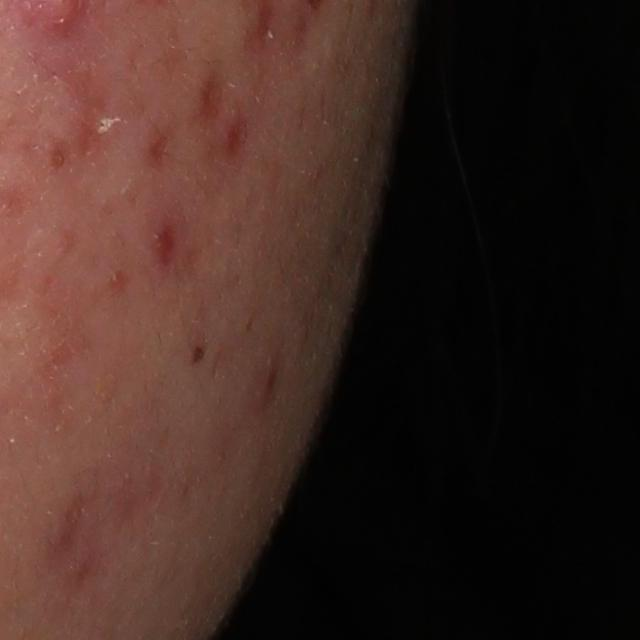atrophic_scar: (200, 71, 227, 127)
comedo: (48, 144, 69, 171)
nevus: (191, 345, 208, 365)
papule: (247, 355, 284, 417)
